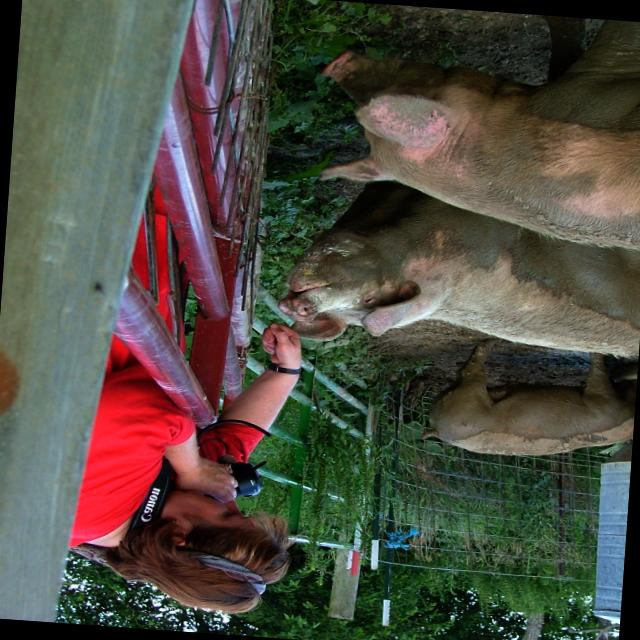pig: (322, 15, 640, 252), (278, 179, 640, 361), (421, 337, 638, 455)
